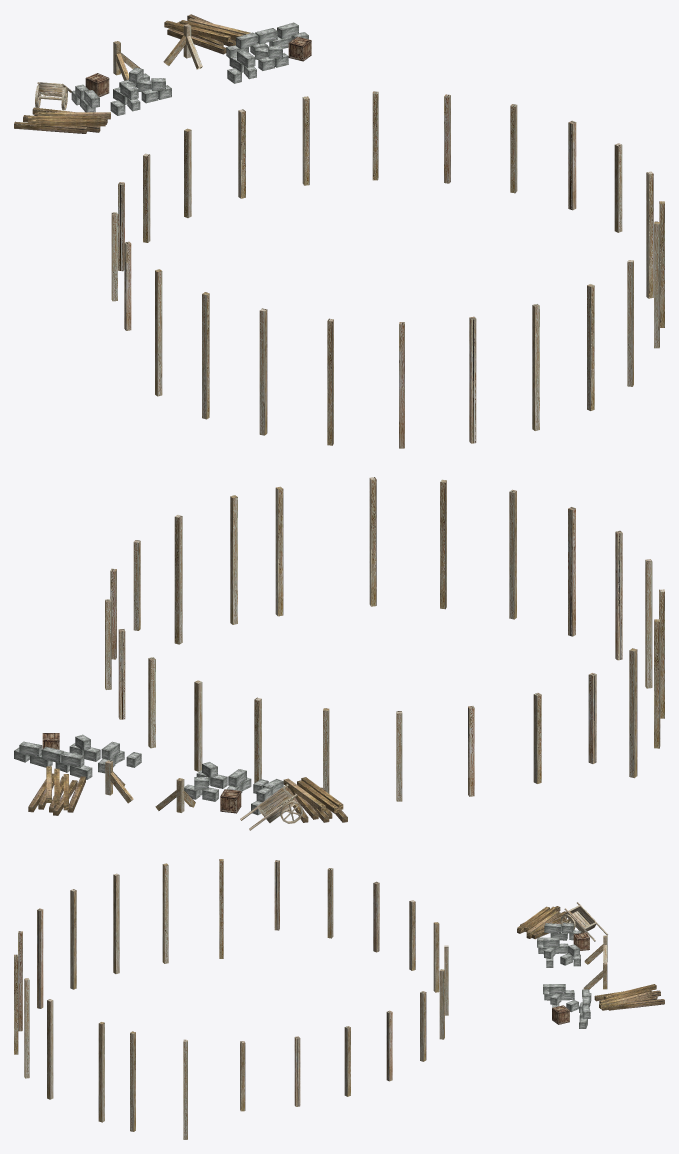
The model's file is found_dock_super.dae.
The picture shows the model from 3 angles, top to bottom: view 1: azimuth 30°, elevation 25°; view 2: azimuth 150°, elevation 25°; view 3: azimuth 270°, elevation 25°; orthographic projection. The views are drawn at different scales.
Visible parts, largest first — view 1: objhand_cart_final003; view 2: objhand_cart_final003; view 3: objhand_cart_final003.
Boxes of the visible parts, <box> form: objhand_cart_final003: <box>14,14,664,448</box>; objhand_cart_final003: <box>14,477,664,830</box>; objhand_cart_final003: <box>14,859,664,1139</box>.
Size of the model in its own units: 42.63 by 10.7 by 63.54.
